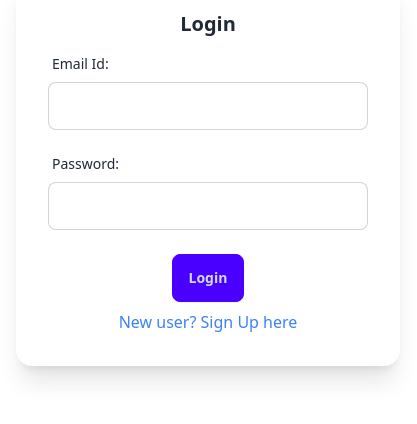
Test: Login Flow › should show error message on login failure
Type "bad@example.com" into the field labelled "Email Id:" at (208, 106), box [48,82,368,130]
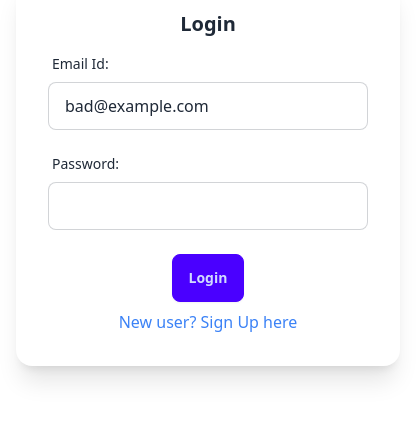
Type "wrong" into the password field labelled "Password:" at (208, 206), box [48,182,368,230]
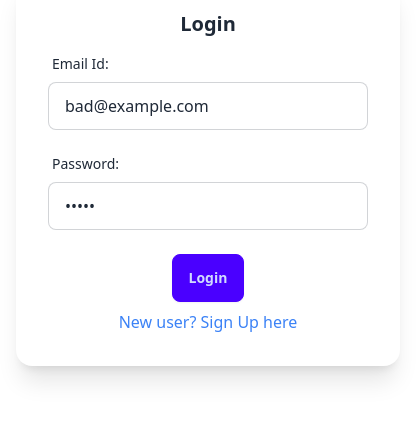
Click the button "Login" at (208, 278), box [172,254,244,302]
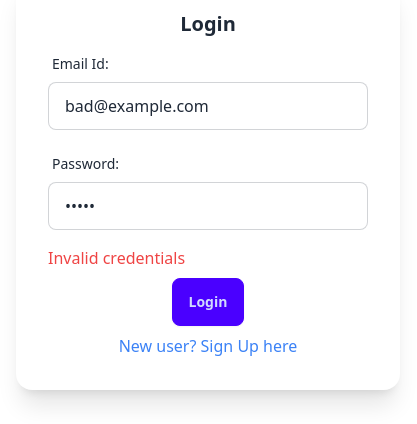
Now the text "Invalid credentials" is shown, box [48,247,185,269]
